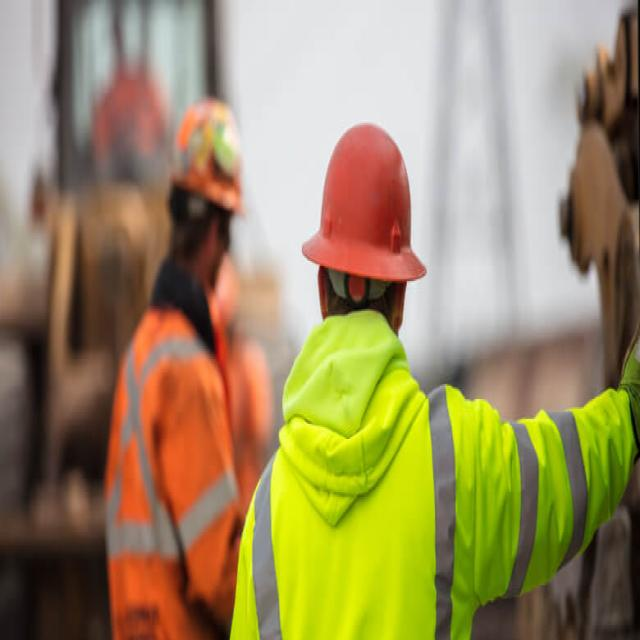helmet: (297, 116, 432, 305)
vest: (230, 309, 640, 640)
